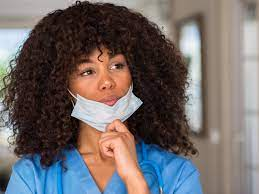mask_weared_incorrect: (65, 39, 139, 131)
